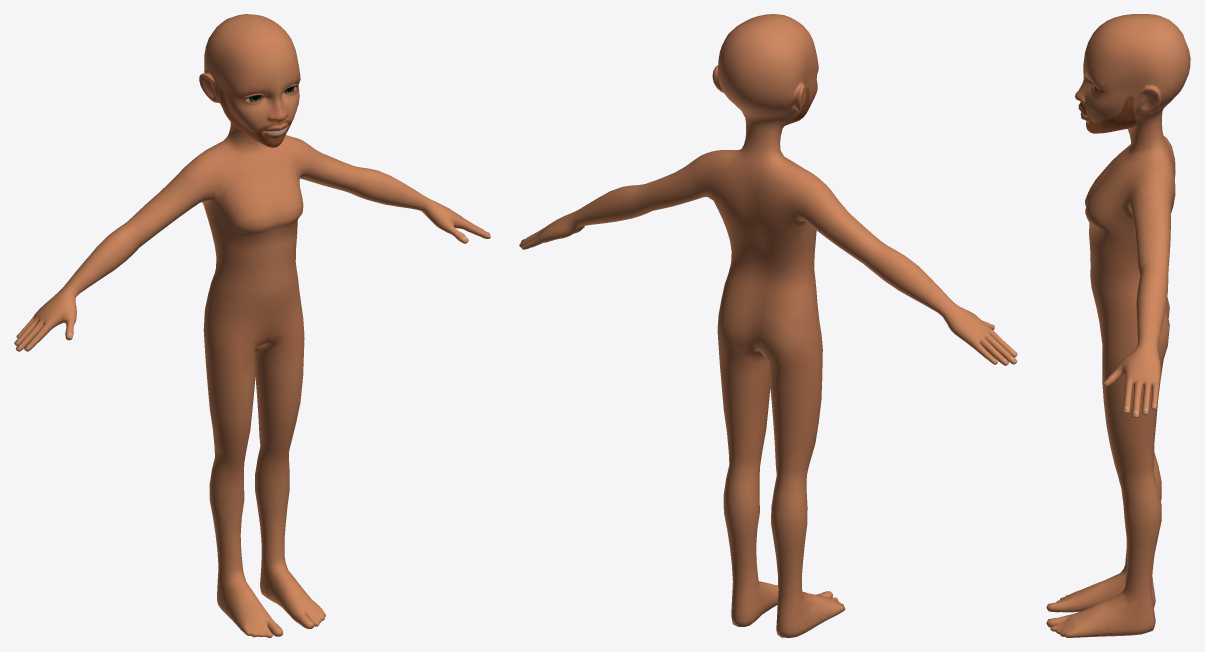
File: frame_0050.glb
The picture shows the model from 3 angles, left to right: view 1: azimuth 30°, elevation 25°; view 2: azimuth 150°, elevation 25°; view 3: azimuth 270°, elevation 25°; orthographic projection. The views are drawn at different scales.
Visible parts, largest first — view 1: frame_0050_head_geo; view 2: frame_0050_head_geo; view 3: frame_0050_head_geo.
Boxes of the visible parts, <box> form: frame_0050_head_geo: <box>14,14,490,637</box>; frame_0050_head_geo: <box>519,14,1017,637</box>; frame_0050_head_geo: <box>1046,14,1190,637</box>.
Size of the model in its own units: 1.28 by 1.5 by 0.3253.
Materials: 3 (3 with a texture image).
